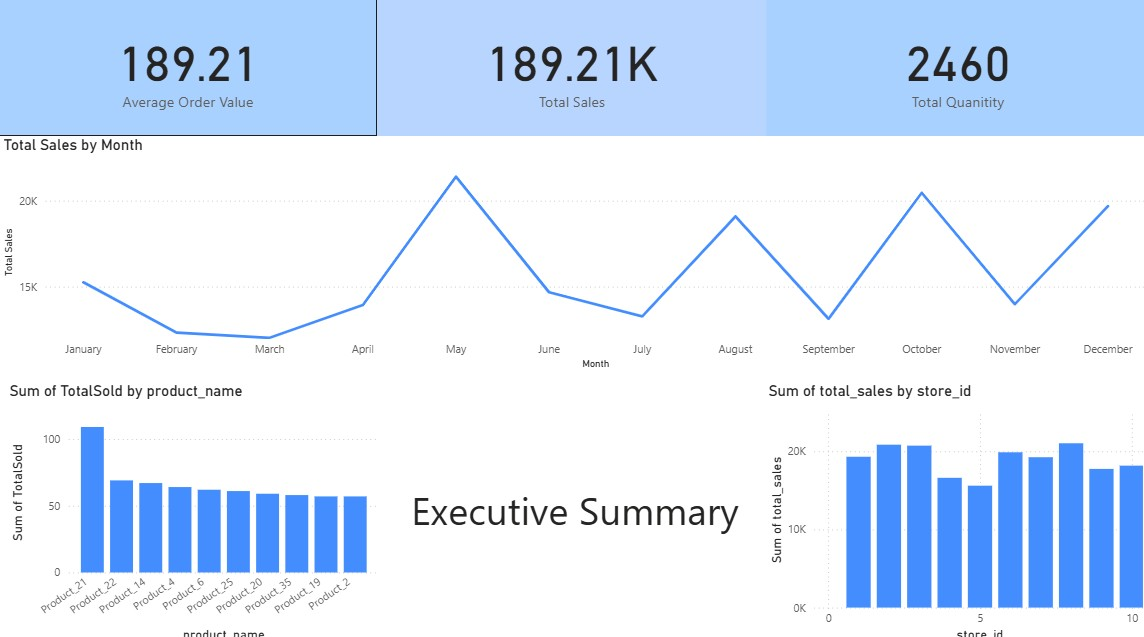

This screenshot's page, from the dashboard's own definition file:
{"tool":"powerbi","page":{"name":"Page 1","canvas":[1280,720],"ordinal":0},"visuals":[{"type":"card","fields":{"Values":["sales.Average Order Value"]},"box":[0,0,419.5,153.1],"z":0},{"type":"card","fields":{"Values":["sales.Total Quanitity"]},"box":[852.3,0,427.1,153.1],"z":1000},{"type":"card","fields":{"Values":["sales.Total Sales"]},"box":[419.5,0,432.8,153.1],"z":2000},{"type":"columnChart","fields":{"Category":["Top 10 Selling Product.product_name"],"Y":["Sum(Top 10 Selling Product.TotalSold)"]},"box":[6.7,426.7,420,293.3],"z":3000},{"type":"columnChart","fields":{"Category":["Top 10 performing stores by sales.store_id"],"Y":["Sum(Top 10 performing stores by sales.total_sales)"]},"box":[850,426.7,428.3,293.3],"z":4000},{"type":"lineChart","fields":{"Y":["sales.Total Sales"],"Category":["sales.date.Variation.Date Hierarchy.Month"]},"box":[0,153.3,1278.3,263.3],"z":5000},{"type":"textbox","box":[426.7,426.7,426.7,293.3],"z":6000}]}

Visuals, with their boxes in screenshot pixels (x1, y1, x2, y2), scaled from the page's 1280x720 canvas onto the 1144x637 screenshot:
card - sales.Average Order Value: <region>0, 0, 375, 135</region>
card - sales.Total Quanitity: <region>762, 0, 1143, 135</region>
card - sales.Total Sales: <region>375, 0, 762, 135</region>
columnChart - Top 10 Selling Product.product_name x Sum(Top 10 Selling Product.TotalSold): <region>6, 378, 381, 636</region>
columnChart - Top 10 performing stores by sales.store_id x Sum(Top 10 performing stores by sales.total_sales): <region>760, 378, 1142, 636</region>
lineChart - sales.Total Sales x sales.date.Variation.Date Hierarchy.Month: <region>0, 136, 1142, 369</region>
textbox: <region>381, 378, 763, 636</region>
